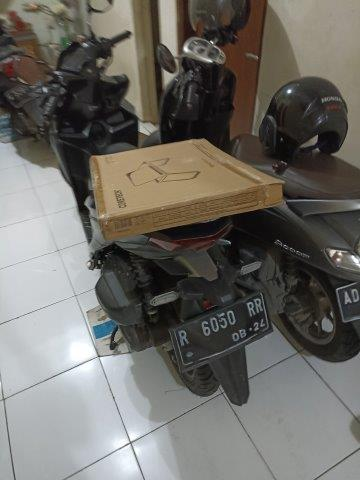kardus: (91, 140, 282, 238)
